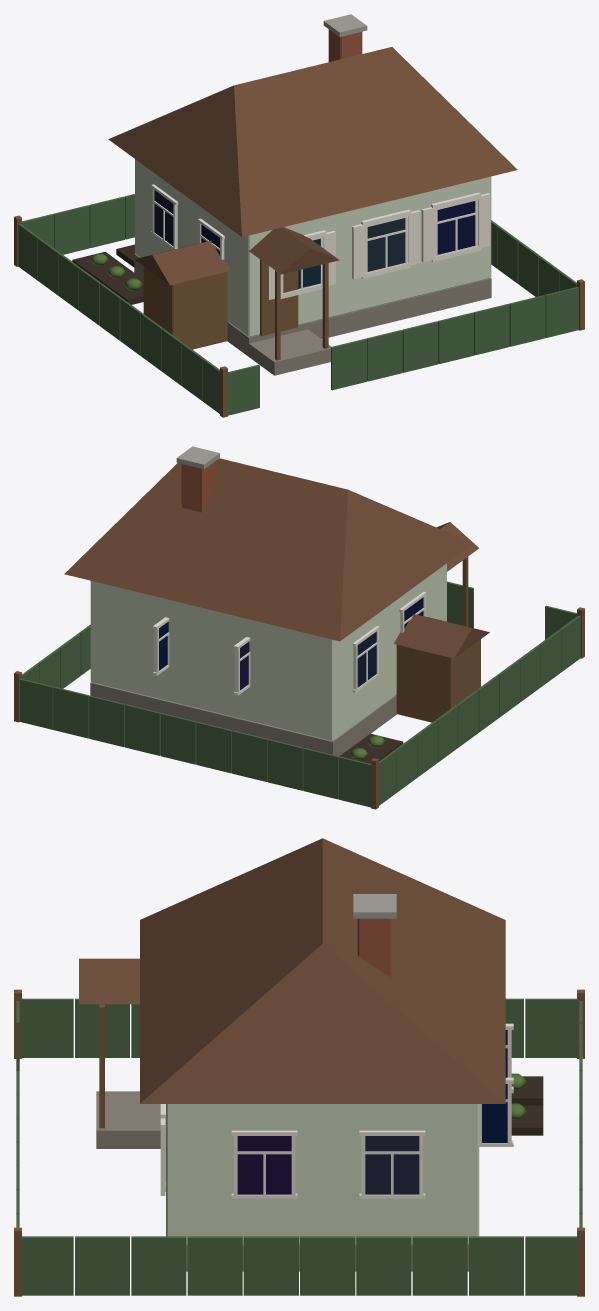
File: house_d.glb
3 views of the same model, one above another, from view 1: azimuth 30°, elevation 25°; view 2: azimuth 150°, elevation 25°; view 3: azimuth 270°, elevation 25° (orthographic). The views are drawn at different scales.
Visible parts, largest first — view 1: house_d; view 2: house_d; view 3: house_d.
Part boxes in pixels (x1,y1,x2,y2): house_d: (14,14,584,417); house_d: (14,446,584,809); house_d: (14,838,584,1296).
Size of the model in its own units: 9.84 by 6.12 by 9.84.
